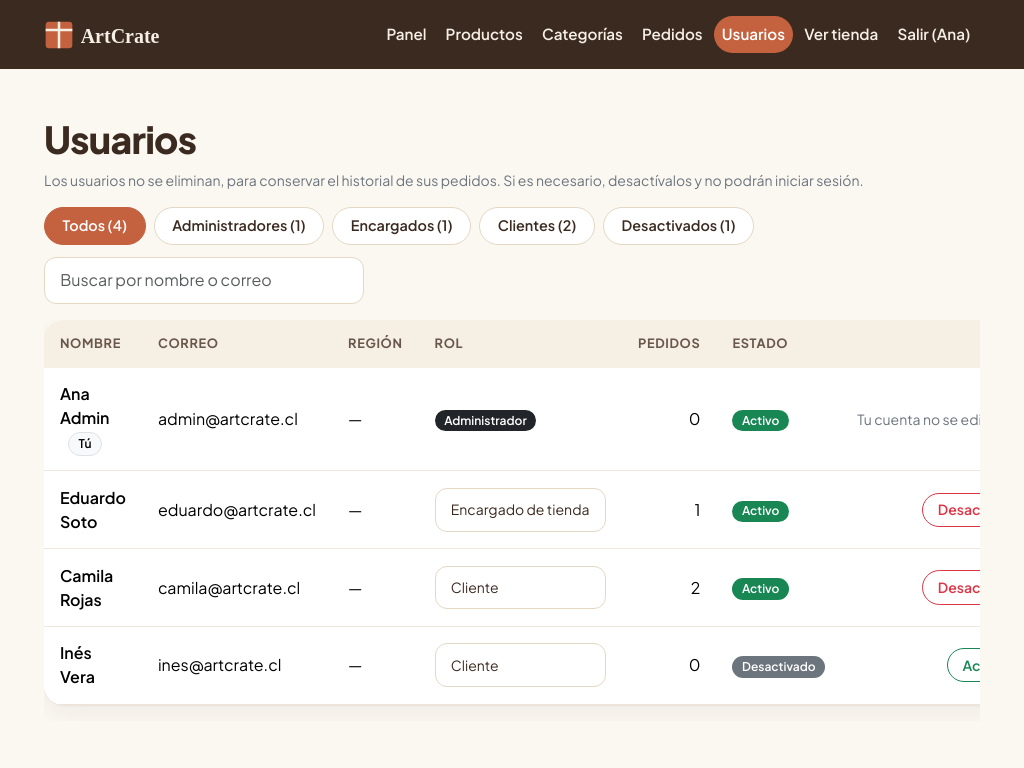
Administración de usuarios › cambiar el rol › explica qué podrá hacer la persona antes de aplicar el cambio
This screenshot has width=1024, height=768.
Check: the row "Camila Rojas camila@artcrate.cl — 2 Activo Desactivar" is shown, box left=44, top=549, right=980, bottom=626
Select "Encargado de tienda" in the dropdown named "Rol de Camila Rojas" at (520, 588), box left=435, top=566, right=606, bottom=609
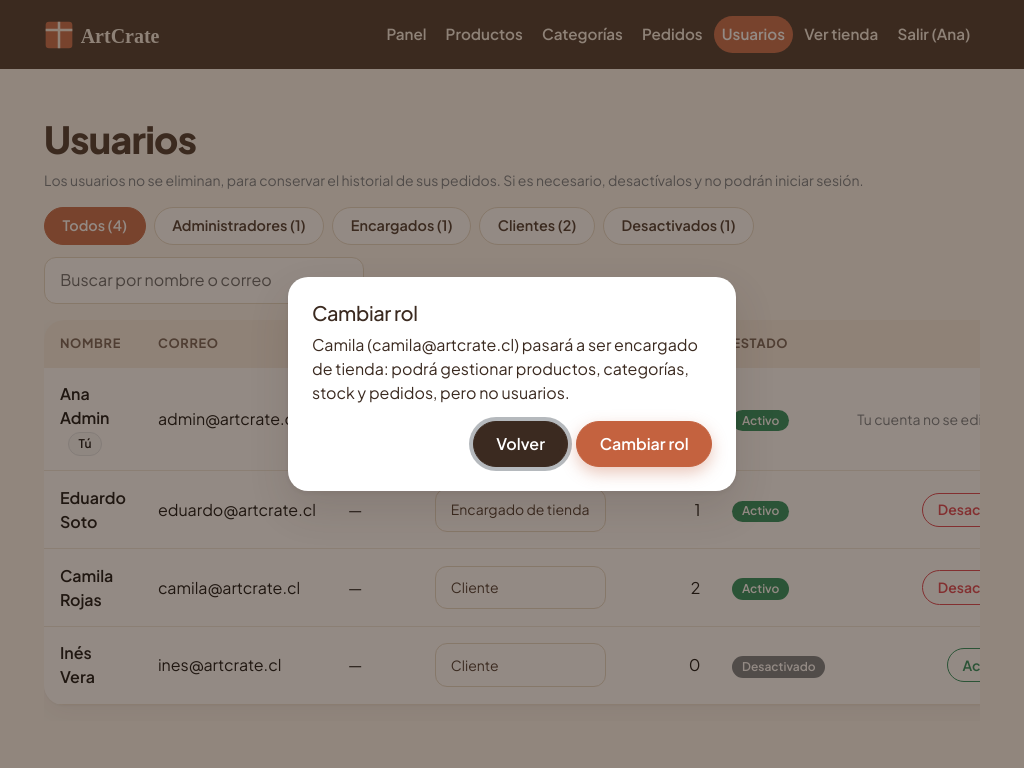
Check: the dialog shows "camila@artcrate.cl", box left=312, top=334, right=698, bottom=403
Check: the dialog shows "pasará a ser encargado de tienda", box left=312, top=334, right=698, bottom=403
Check: the dialog shows "pero no usuarios", box left=312, top=334, right=698, bottom=403
